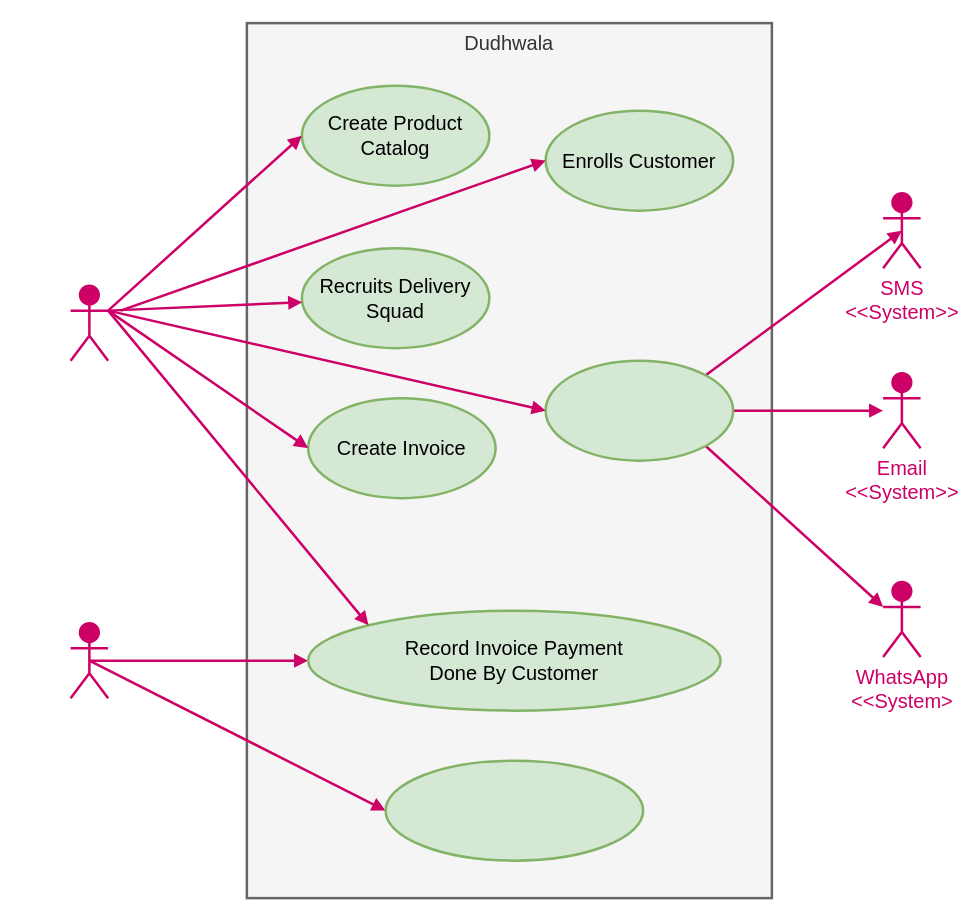
The diagram is 980 pixels wide and 920 high, and some of its shapes have lost their labels. The shapes that lost their labels are listed below. From the top down, each one's centre as x and y in pixels, then its label:
At (x=89, y=322): "Admin".
At (x=639, y=410): "Share Invoice To Customer".
At (x=89, y=660): "Delivery Squad".
At (x=514, y=810): "Record Delivery Details".
